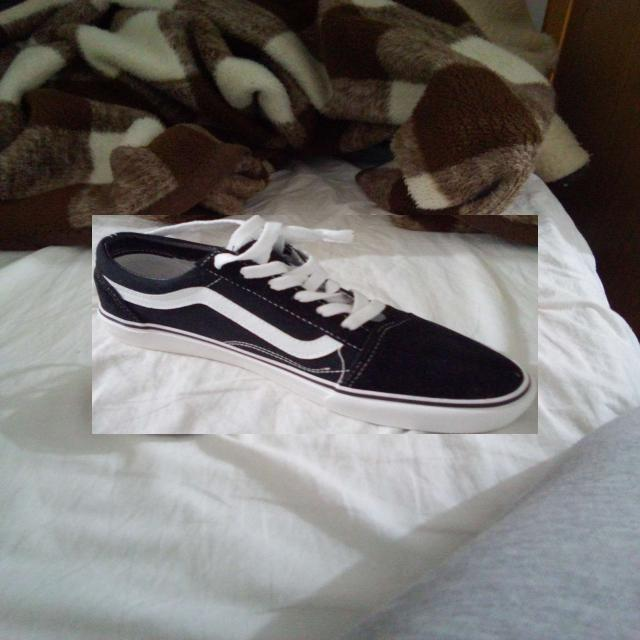shoe: (92, 215, 538, 434)
